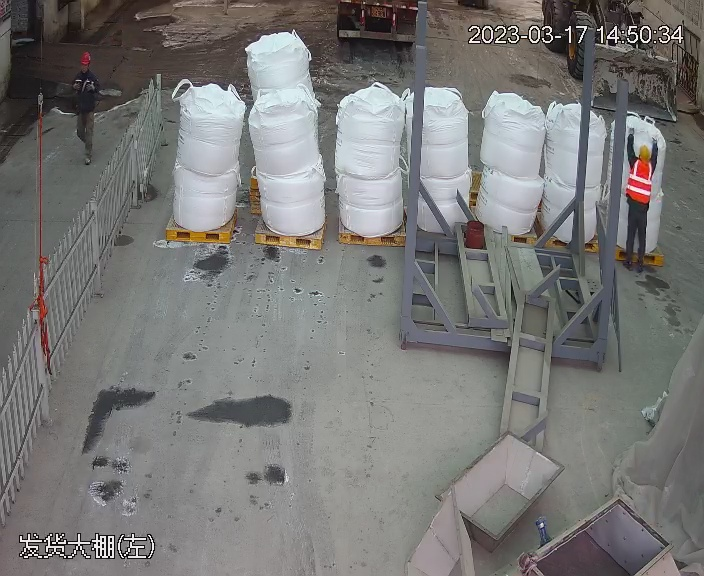head: (71, 52, 100, 87), (632, 139, 658, 178)
helmet: (639, 143, 651, 162), (79, 52, 92, 64)
people: (622, 131, 653, 275), (68, 50, 103, 163)
truck: (331, 1, 423, 43)
